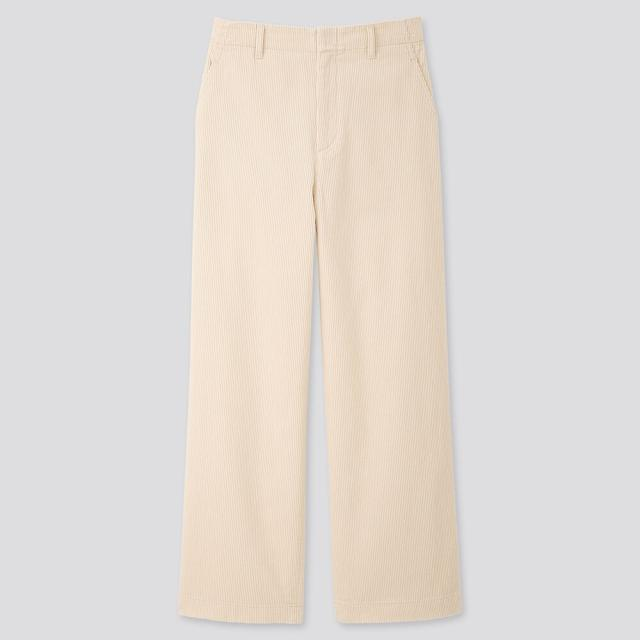long-pants: (175, 18, 467, 631)
